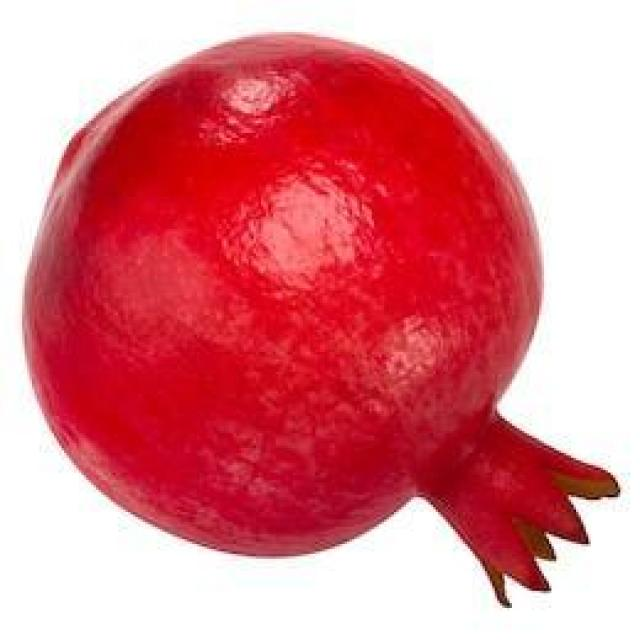Pomegranate: (19, 29, 627, 612)
